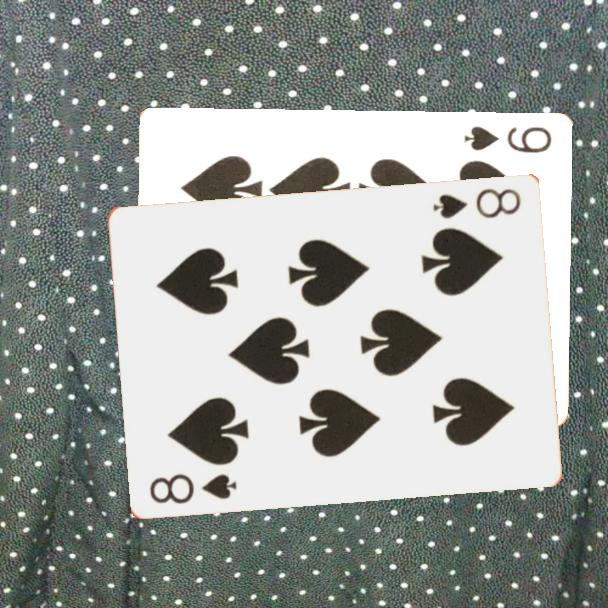s08: (429, 184, 524, 221), (146, 469, 240, 506)
s09: (460, 123, 554, 156)
